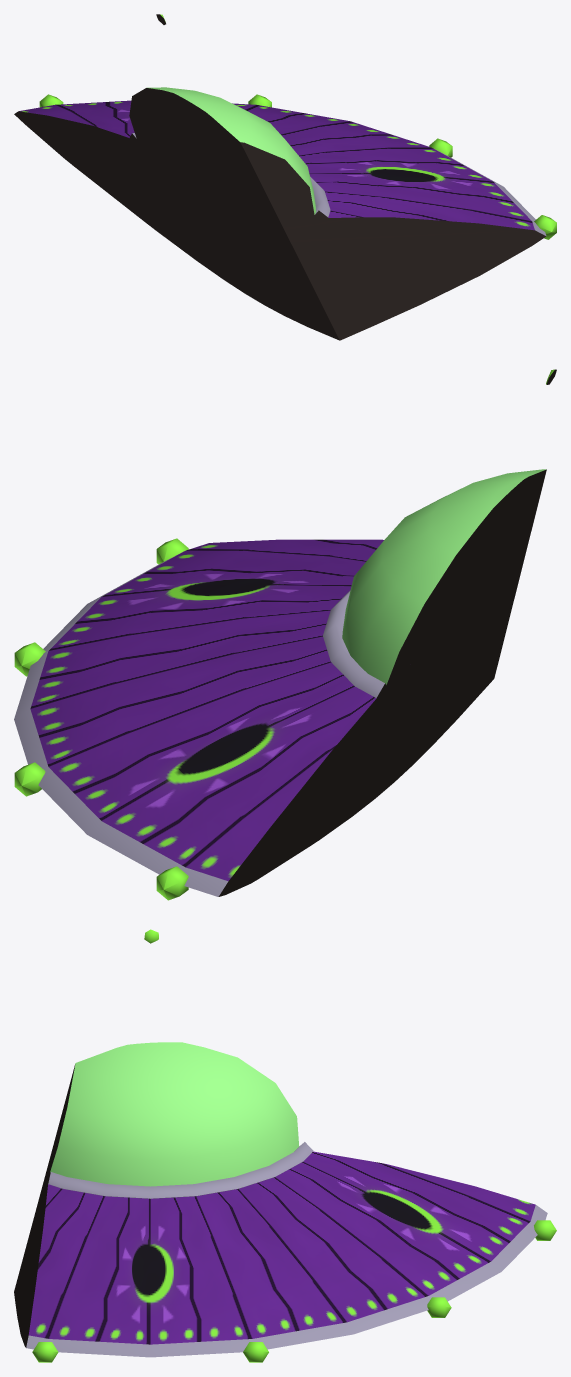
File: raider_saucer_debris2.obj
The picture shows the model from 3 angles, top to bottom: view 1: azimuth 30°, elevation 25°; view 2: azimuth 150°, elevation 25°; view 3: azimuth 270°, elevation 25°; orthographic projection. The views are drawn at different scales.
Visible parts, largest first — view 1: disc, dome, rim_light, dome_ring; view 2: disc, dome, rim_light, dome_ring; view 3: disc, dome, dome_ring, rim_light.
Boxes of the visible parts, x1=… form: disc: x1=14, y1=100, x2=546, y2=340; dome: x1=129, y1=87, x2=316, y2=226; rim_light: x1=39, y1=94, x2=556, y2=239; dome_ring: x1=129, y1=133, x2=330, y2=228; disc: x1=14, y1=539, x2=524, y2=896; dome: x1=342, y1=469, x2=546, y2=690; rim_light: x1=14, y1=538, x2=188, y2=900; dome_ring: x1=323, y1=590, x2=386, y2=698; disc: x1=14, y1=1151, x2=547, y2=1357; dome: x1=47, y1=1042, x2=299, y2=1186; dome_ring: x1=47, y1=1142, x2=313, y2=1198; rim_light: x1=32, y1=1220, x2=556, y2=1362.
Size of the model in its own units: 7.91 by 6.96 by 10.71.
Materials: 5 (1 with a texture image).
